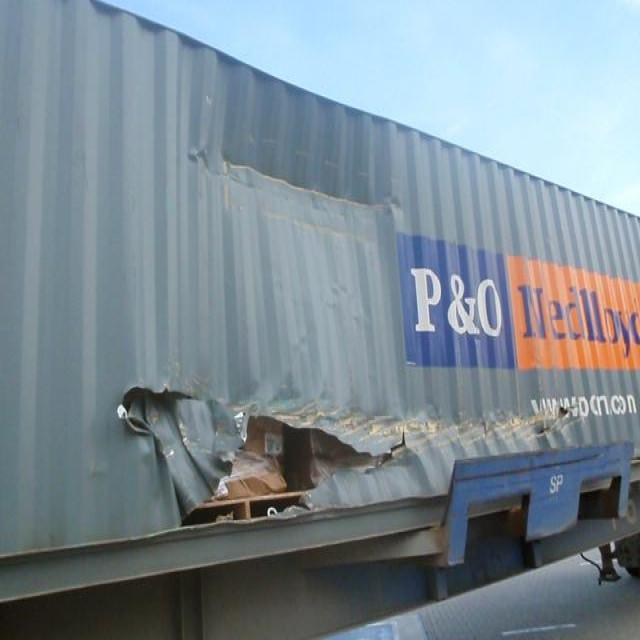dent: (154, 126, 424, 380), (409, 397, 530, 464)
